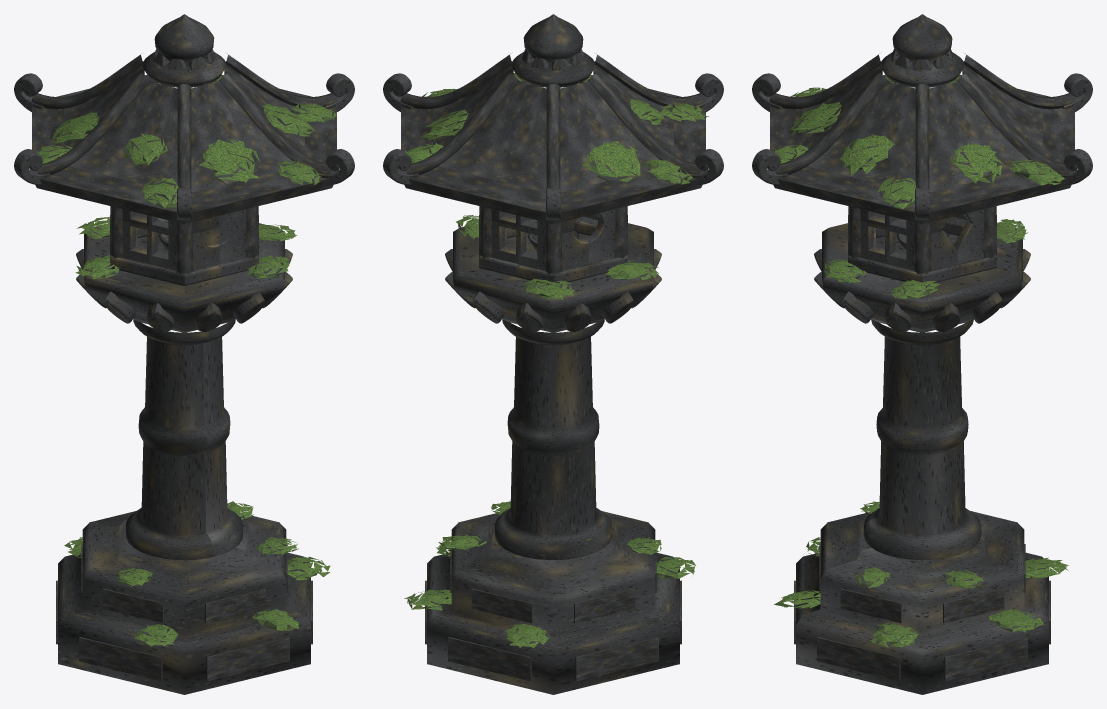
The model's file is toro-stone-lantern.glb.
The picture shows the model from 3 angles, left to right: view 1: azimuth 30°, elevation 25°; view 2: azimuth 150°, elevation 25°; view 3: azimuth 270°, elevation 25°; orthographic projection.
Visible parts, largest first — view 1: Kiso_Stepped_Plinth, Kasa_Curved_Umbrella, Sao_Granite_Column, Chudai_Hex_Body, Hoju_Sacred_Jewel, Hibukuro_Panel_1_moon, Hibukuro_Bottom_Frame, Hibukuro_Panel_2_lattice, Kiso_Tier1_Panel_1, Kiso_Tier1_Panel_2, Kasa_HipRidge_3, Kasa_HipRidge_1 (+29 smaller); view 2: Kiso_Stepped_Plinth, Kasa_Curved_Umbrella, Sao_Granite_Column, Chudai_Hex_Body, Hoju_Sacred_Jewel, Hibukuro_Bottom_Frame, Hibukuro_Panel_4_lattice, Hibukuro_Panel_3_sun, Kiso_Tier1_Panel_3, Kiso_Tier1_Panel_4, Kasa_HipRidge_5, Kasa_HipRidge_3 (+26 smaller); view 3: Kiso_Stepped_Plinth, Kasa_Curved_Umbrella, Sao_Granite_Column, Chudai_Hex_Body, Hoju_Sacred_Jewel, Hibukuro_Bottom_Frame, Hibukuro_Panel_5_diamond, Hibukuro_Panel_0_lattice, Kiso_Tier1_Panel_0, Kiso_Tier1_Panel_5, Kasa_HipRidge_1, Kasa_HipRidge_5 (+29 smaller).
Boxes of the visible parts, <box> form: Kiso_Stepped_Plinth: <box>58,511,310,694</box>; Kasa_Curved_Umbrella: <box>32,65,336,223</box>; Sao_Granite_Column: <box>126,319,242,560</box>; Chudai_Hex_Body: <box>84,223,284,332</box>; Hoju_Sacred_Jewel: <box>142,14,226,87</box>; Hibukuro_Panel_1_moon: <box>192,209,246,270</box>; Hibukuro_Bottom_Frame: <box>110,217,258,285</box>; Hibukuro_Panel_2_lattice: <box>122,209,176,270</box>; Kiso_Tier1_Panel_1: <box>206,637,289,681</box>; Kiso_Tier1_Panel_2: <box>79,637,162,681</box>; Kasa_HipRidge_3: <box>37,73,150,174</box>; Kasa_HipRidge_1: <box>218,73,331,174</box>; Kiso_Stepped_Plinth: <box>427,511,679,694</box>; Kasa_Curved_Umbrella: <box>401,65,705,223</box>; Sao_Granite_Column: <box>495,319,611,560</box>; Chudai_Hex_Body: <box>453,223,653,332</box>; Hoju_Sacred_Jewel: <box>511,14,595,87</box>; Hibukuro_Bottom_Frame: <box>479,217,627,284</box>; Hibukuro_Panel_4_lattice: <box>491,209,545,270</box>; Hibukuro_Panel_3_sun: <box>561,209,615,270</box>; Kiso_Tier1_Panel_3: <box>575,637,658,681</box>; Kiso_Tier1_Panel_4: <box>448,637,531,681</box>; Kasa_HipRidge_5: <box>406,73,519,174</box>; Kasa_HipRidge_3: <box>587,73,700,174</box>; Kiso_Stepped_Plinth: <box>796,511,1048,694</box>; Kasa_Curved_Umbrella: <box>770,65,1074,223</box>; Sao_Granite_Column: <box>863,319,981,560</box>; Chudai_Hex_Body: <box>822,223,1022,332</box>; Hoju_Sacred_Jewel: <box>880,14,964,87</box>; Hibukuro_Bottom_Frame: <box>848,217,996,285</box>; Hibukuro_Panel_5_diamond: <box>930,209,984,270</box>; Hibukuro_Panel_0_lattice: <box>860,209,914,270</box>; Kiso_Tier1_Panel_0: <box>817,637,900,681</box>; Kiso_Tier1_Panel_5: <box>944,637,1027,681</box>; Kasa_HipRidge_1: <box>775,73,888,174</box>; Kasa_HipRidge_5: <box>956,73,1069,174</box>.
Bounding box in the file's own units: 1.22 × 2.15 × 1.07.
Materials: 4 (2 with a texture image).
